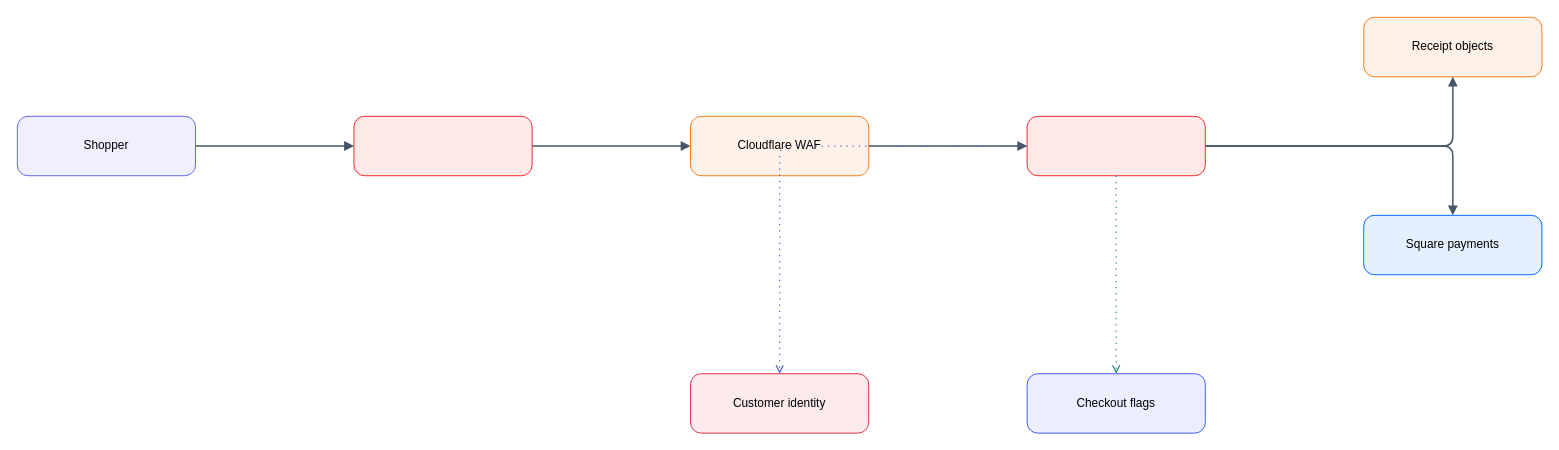
This 1559x450 diagram has some shape labels left out. Each missing label, with the centre of its shape:
"Checkout function" belongs at pixel 1115 145.
"Fastly" belongs at pixel 442 145.
